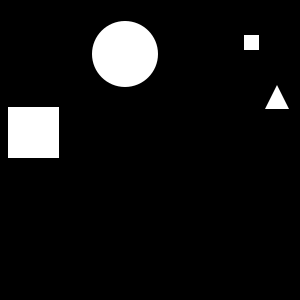circle: (8, 107, 59, 158), (244, 35, 259, 50)
rectangle: (92, 21, 158, 87)
triangle: (265, 85, 289, 109)
